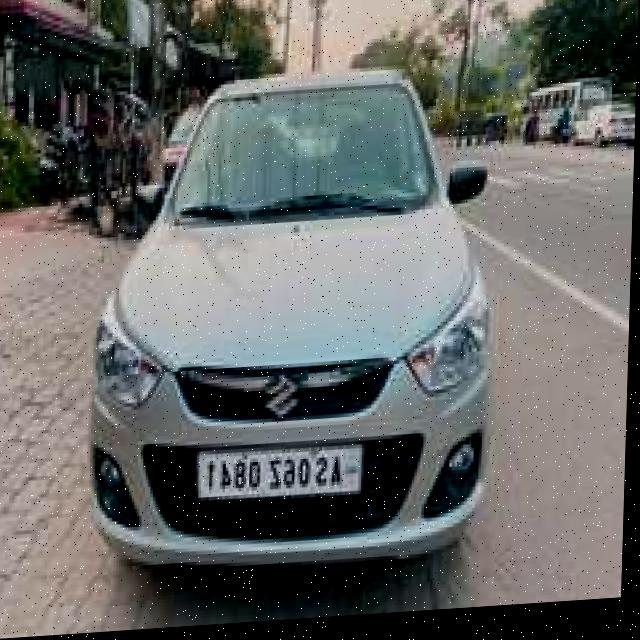plate: (200, 447, 365, 504)
